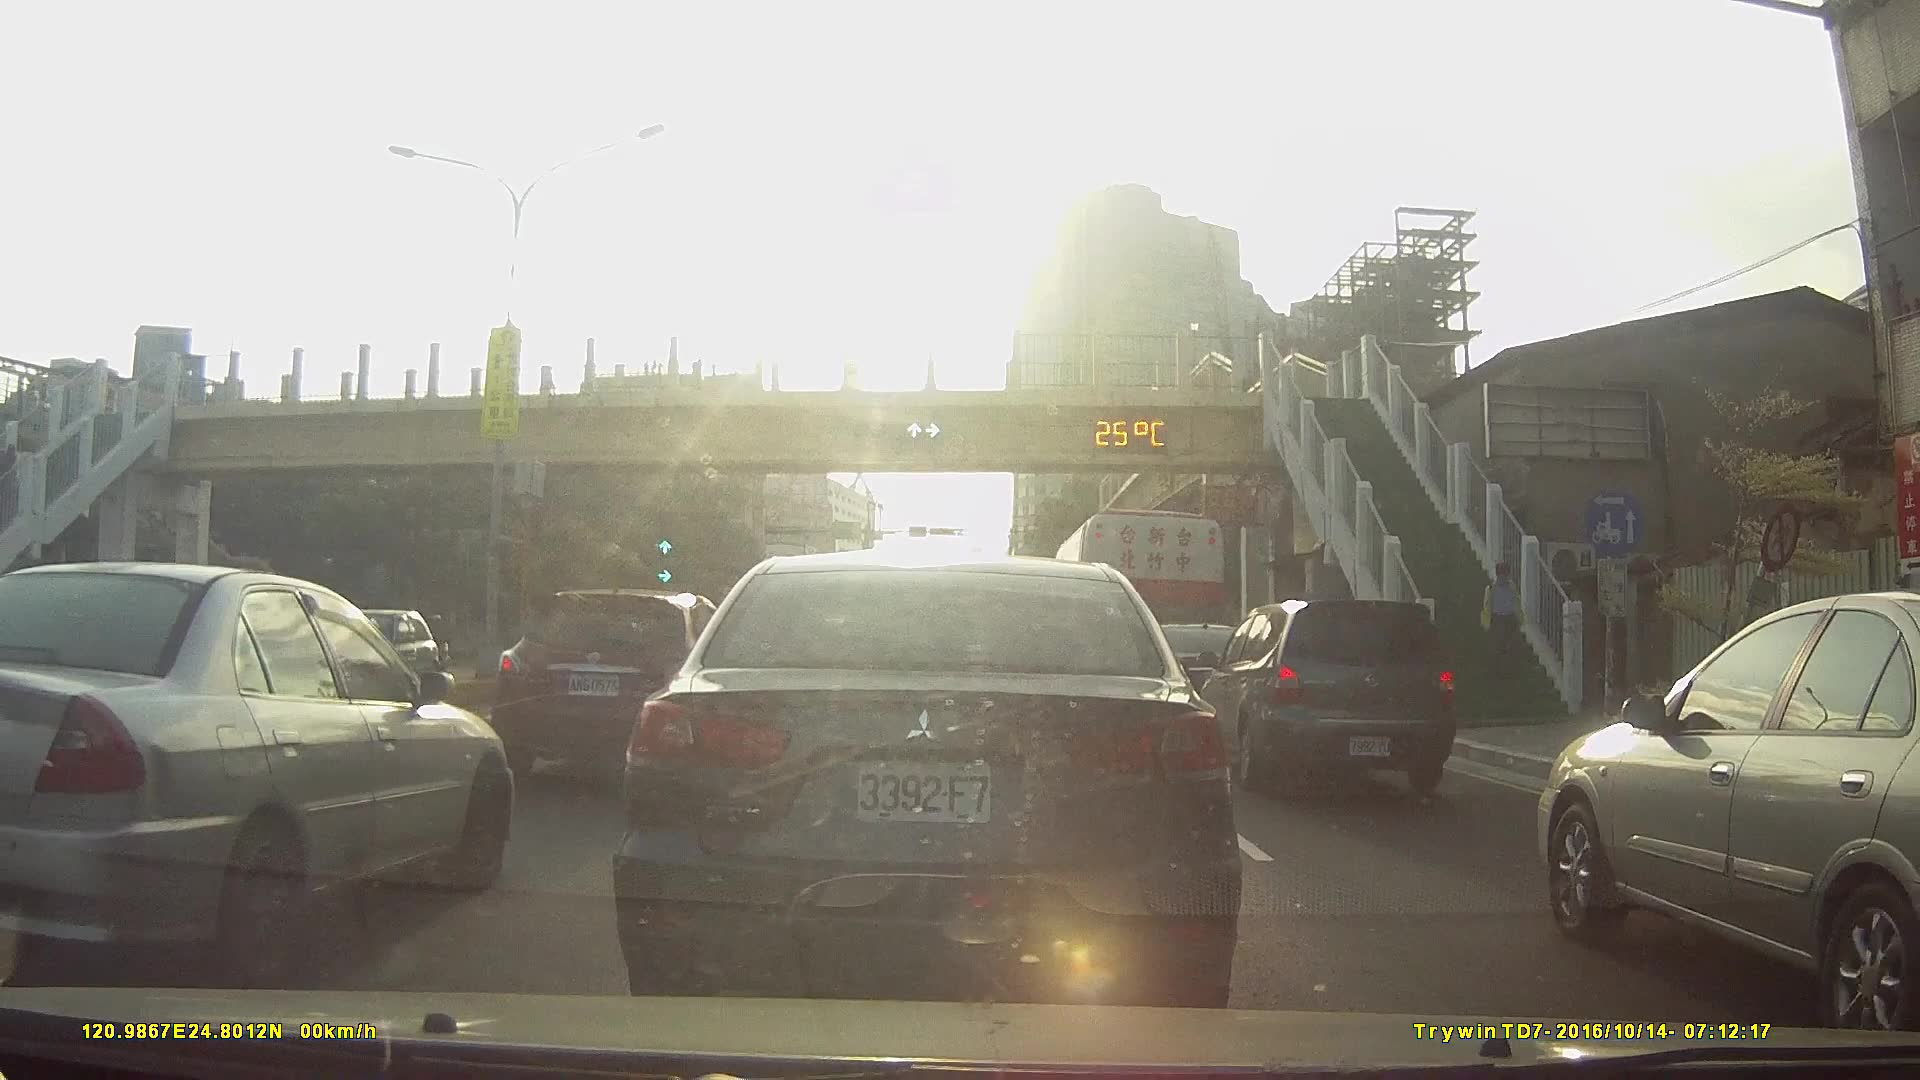pedestrian: (1482, 560, 1530, 676)
vehicle: (614, 552, 1241, 1008), (1, 563, 524, 967), (1528, 585, 1920, 1041), (1194, 597, 1464, 796), (496, 587, 747, 780), (1112, 615, 1271, 737), (284, 604, 449, 708)
